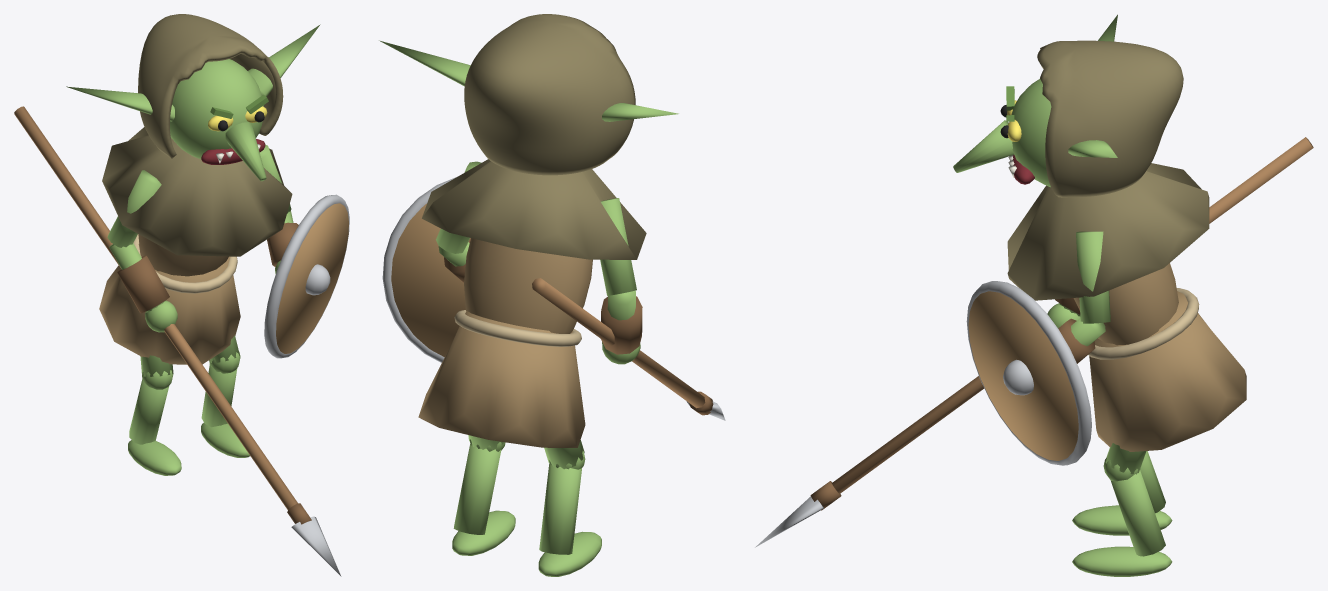
Rendered from goblin.glb.
3 views of the same model, side by side, from view 1: azimuth 30°, elevation 25°; view 2: azimuth 150°, elevation 25°; view 3: azimuth 270°, elevation 25° (orthographic). The views are drawn at different scales.
Visible parts, largest first — view 1: Mantle, Hood, Skirt, Head.001, Shield, Spear, ShieldRim, Torso, Bracer_R, Shin_R, UpperArm_R, Foot_R.001 (+14 smaller); view 2: Hood, Skirt, Mantle, Torso, Shield, Shin_R, Shin_L, Spear, ShieldRim, Belt.001, Foot_R.001, Foot_L.001 (+7 smaller); view 3: Hood, Mantle, Skirt, Shield, Spear, Torso, ShieldRim, Head.001, Shin_L, Foot_L.001, UpperArm_L, Belt.001 (+6 smaller).
Boxes of the visible parts, box(x1,y1,x2,y2) form: Mantle: box(102, 127, 292, 256); Hood: box(138, 14, 283, 158); Skirt: box(99, 243, 240, 364); Head.001: box(170, 59, 263, 158); Shield: box(276, 203, 348, 353); Spear: box(14, 106, 297, 509); ShieldRim: box(264, 194, 349, 358); Torso: box(138, 234, 228, 276); Bracer_R: box(117, 255, 169, 313); Shin_R: box(129, 379, 169, 444); UpperArm_R: box(107, 170, 161, 247); Foot_R.001: box(128, 440, 181, 475); Hood: box(464, 14, 635, 175); Skirt: box(418, 311, 585, 447); Mantle: box(422, 159, 646, 259); Torso: box(464, 238, 592, 333); Shield: box(391, 203, 465, 357); Shin_R: box(539, 464, 581, 554); Shin_L: box(453, 444, 501, 534); Spear: box(532, 278, 705, 408); ShieldRim: box(382, 177, 456, 362); Belt.001: box(454, 310, 581, 346); Foot_R.001: box(538, 531, 601, 576); Foot_L.001: box(452, 510, 515, 555); Hood: box(1037, 40, 1183, 197); Mantle: box(1007, 163, 1209, 300); Skirt: box(1089, 291, 1246, 451); Shield: box(968, 291, 1078, 460); Spear: box(831, 137, 1313, 493); Torso: box(1073, 263, 1178, 345); ShieldRim: box(966, 281, 1091, 465); Head.001: box(1011, 79, 1051, 187); Shin_L: box(1111, 470, 1165, 556); Foot_L.001: box(1072, 546, 1172, 576); UpperArm_L: box(1076, 231, 1110, 323); Belt.001: box(1088, 288, 1199, 359).
Bounding box in the file's own units: 0.8748 × 1.37 × 1.38.
